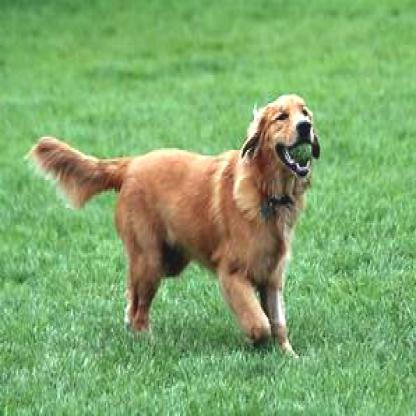dog: (32, 95, 320, 358)
